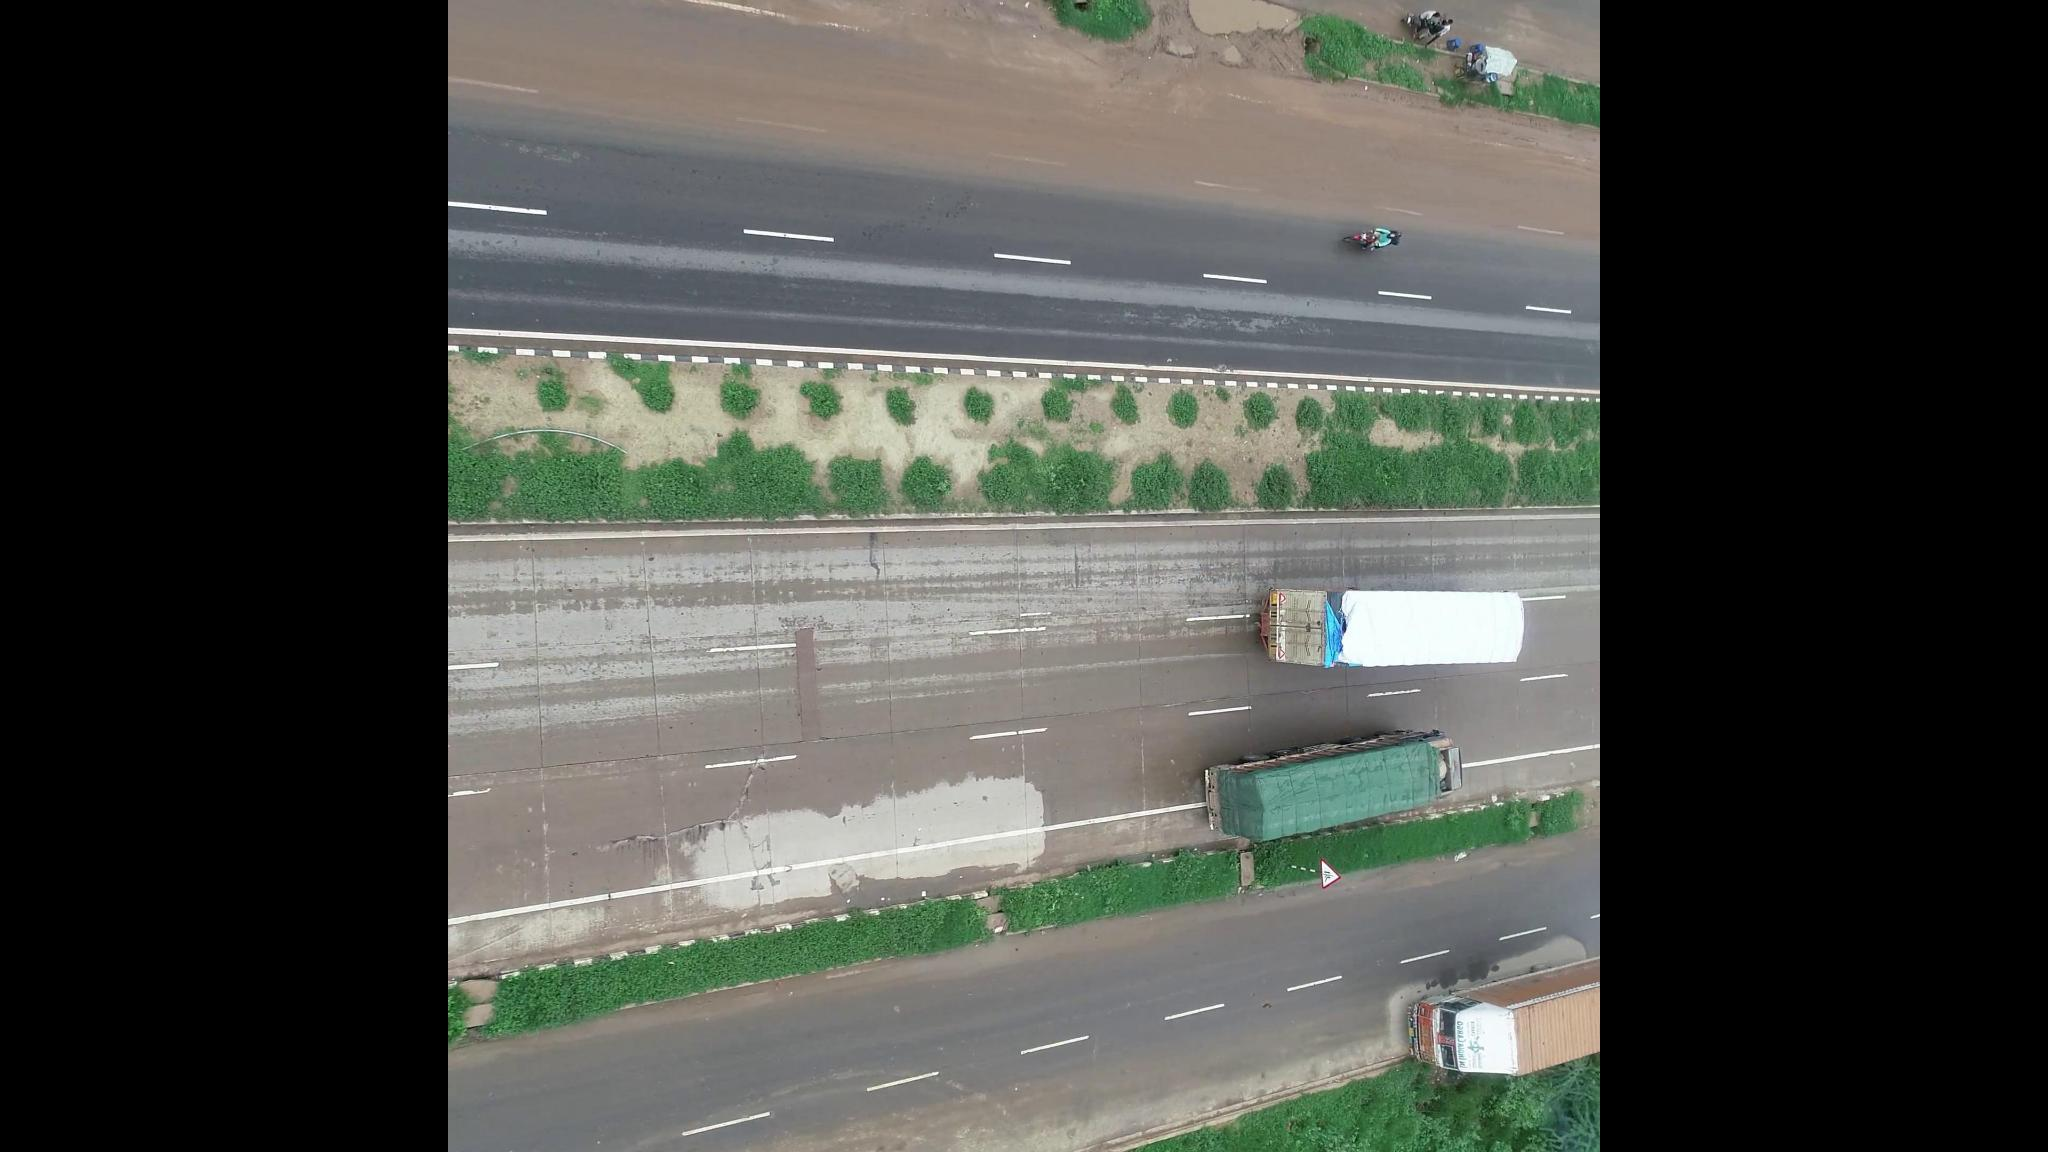Muddy_road: (461, 1, 858, 170), (871, 45, 1222, 207), (1229, 89, 1582, 246)
Ravelling: (1121, 309, 1305, 333)
